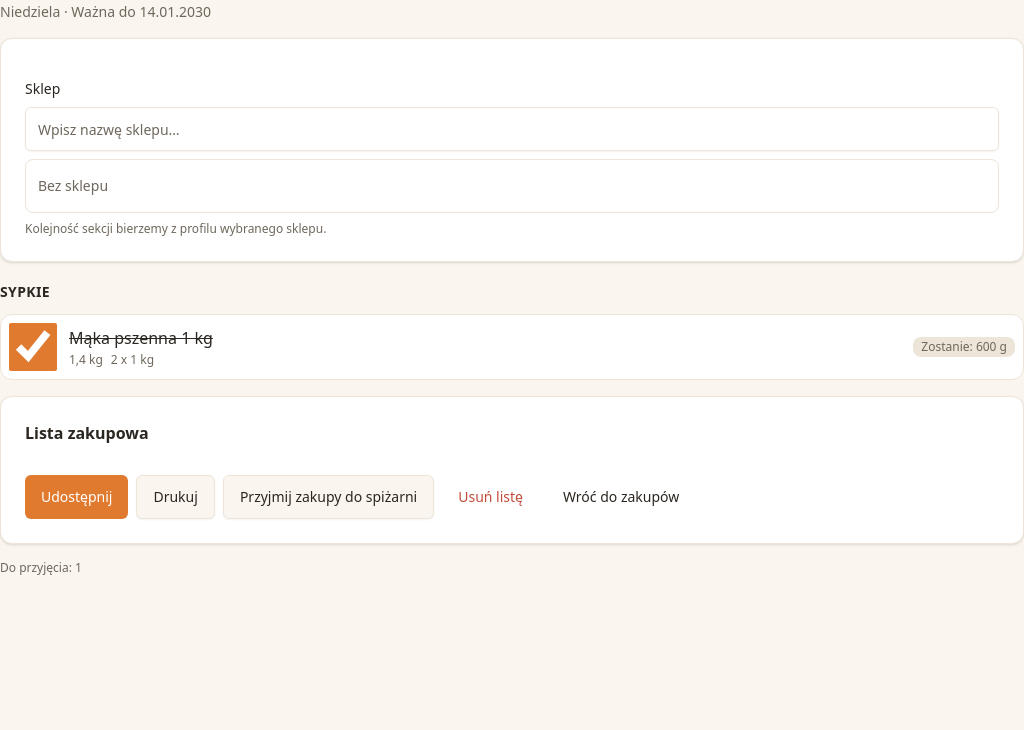
it: ListaZakupowPage › przyjęcie do spiżarni wymaga potwierdzenia w dialogu, nie dzieje się od razu
Click the button with test id "lista-accept-open". click: (329, 497)
box: [223,475,434,519]
(page scrolled)
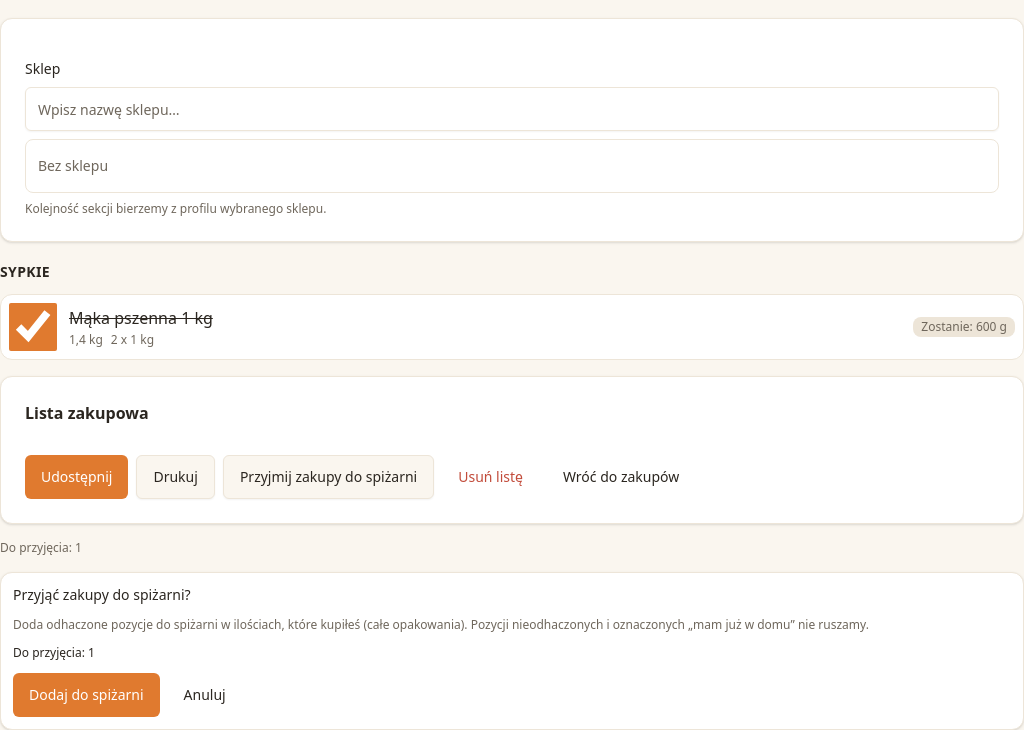
Click the button with test id "accept-confirm". click: (86, 695)
box: [13,673,160,717]
(page scrolled)
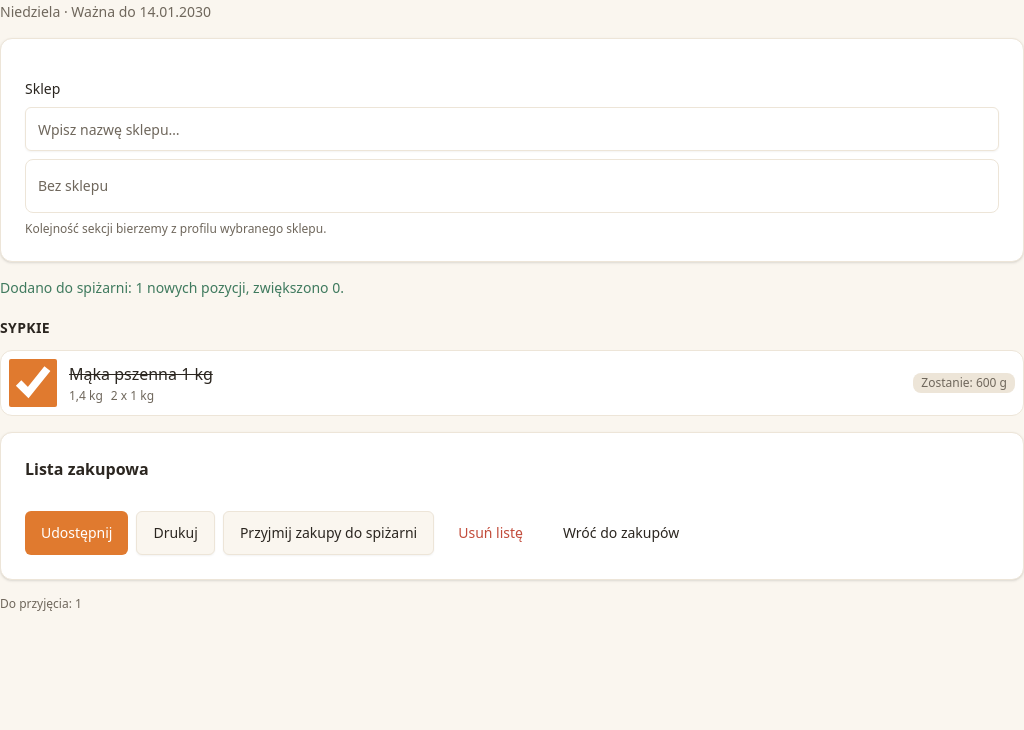
Expected: the message with test id "lista-info" shows "1 nowych pozycji", [0,278,344,297]
